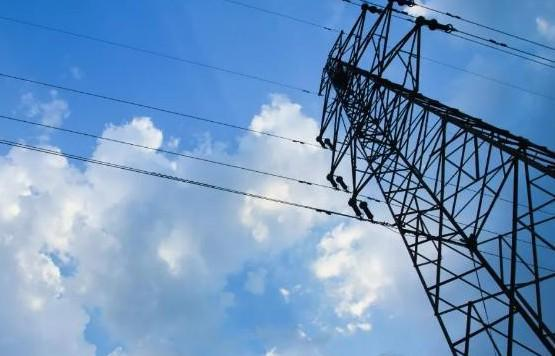power_tower: (318, 0, 555, 352)
